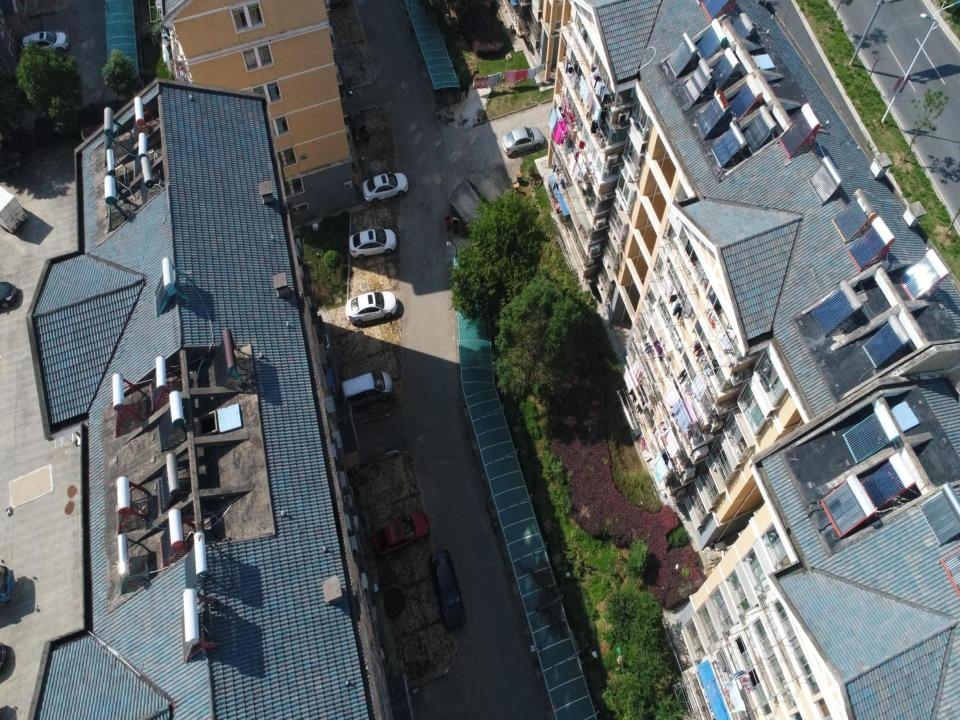car: (429, 549, 466, 631), (372, 510, 430, 556), (346, 289, 398, 326), (349, 226, 397, 260), (362, 170, 409, 204), (19, 29, 68, 57), (502, 126, 544, 158)
truck: (0, 184, 27, 234)
van: (339, 370, 394, 411)
